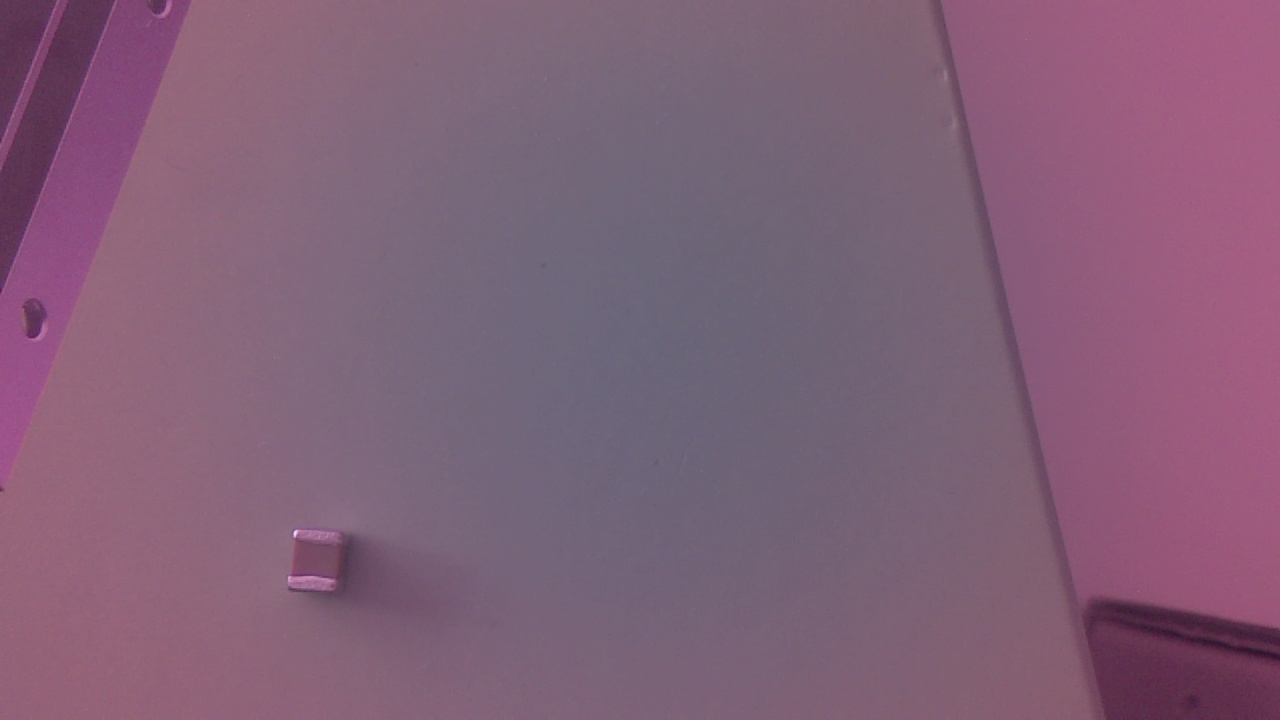Condensator: (288, 526, 360, 601)
